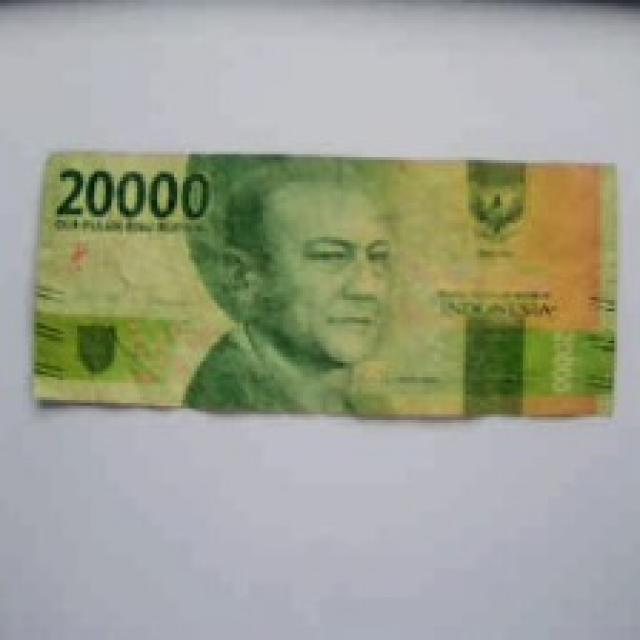dua puluh ribu rupiah: (14, 129, 640, 500)
